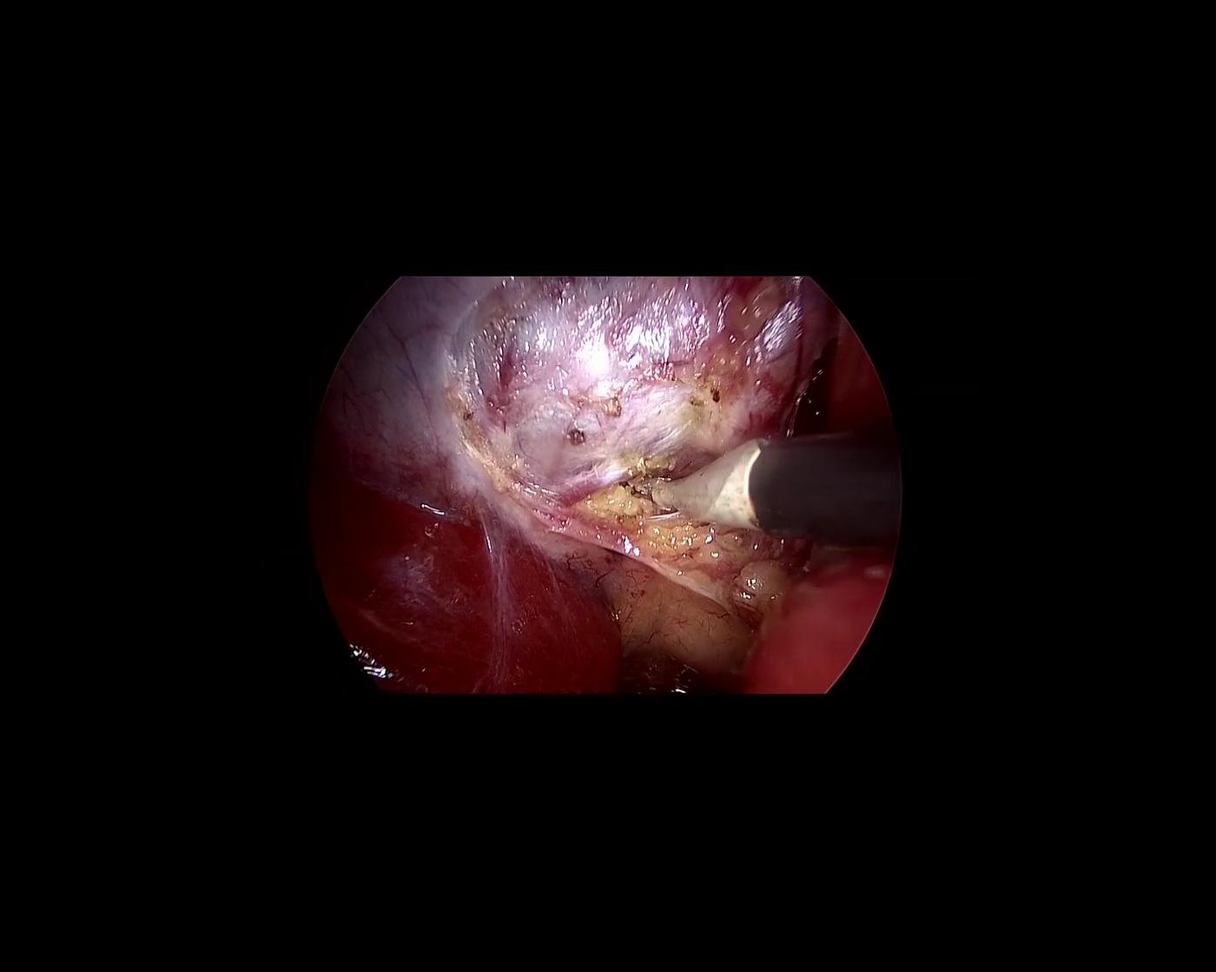Cautery: (621, 437, 904, 548)
Gallbladder: (317, 274, 839, 570)
Liver: (250, 459, 659, 768)
